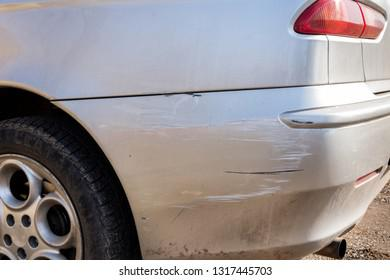rear-bumper-dent: (46, 76, 381, 263)
